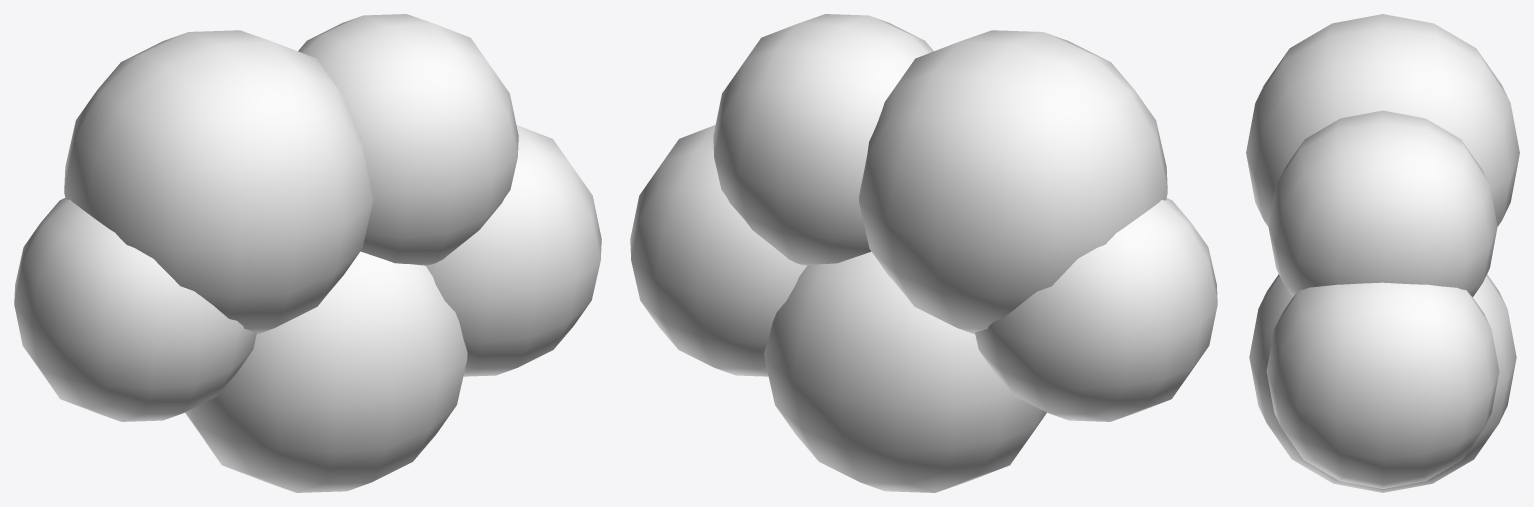
File: Isl_8_Cloud_1.fbx
The picture shows the model from 3 angles, left to right: view 1: azimuth 30°, elevation 25°; view 2: azimuth 150°, elevation 25°; view 3: azimuth 270°, elevation 25°; orthographic projection. The views are drawn at different scales.
Visible parts, largest first — view 1: Isl_8_Cloud_1; view 2: Isl_8_Cloud_1; view 3: Isl_8_Cloud_1.
Boxes of the visible parts, x1,y1,x2,y2 form: Isl_8_Cloud_1: (14, 14, 601, 492); Isl_8_Cloud_1: (630, 14, 1217, 492); Isl_8_Cloud_1: (1246, 14, 1519, 492).
Bounding box in the file's own units: 222 × 176 × 107.
